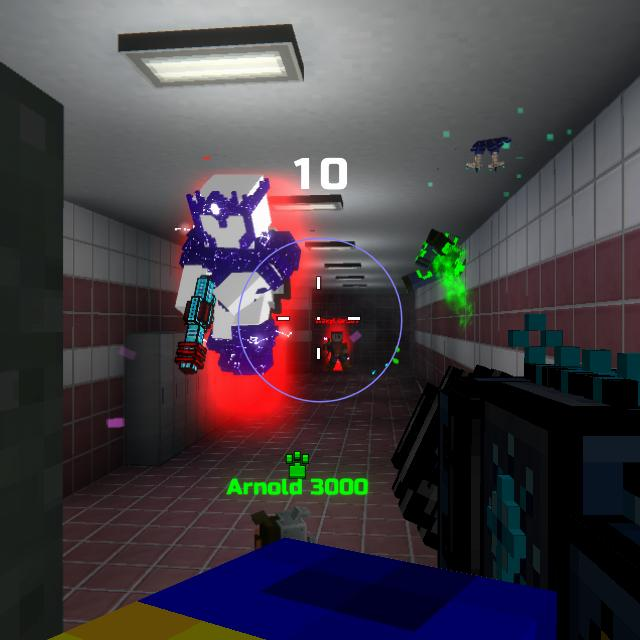Enemy: (175, 175, 301, 376), (323, 332, 351, 371)
